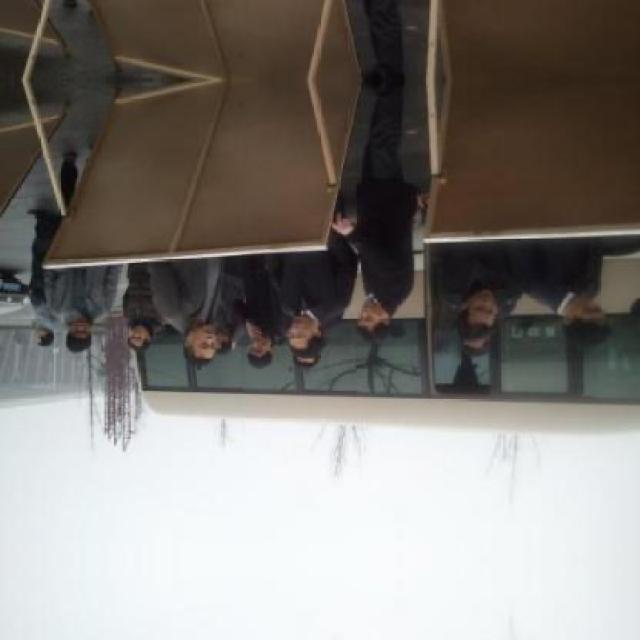sin casco: (546, 285, 608, 355), (279, 298, 337, 363), (452, 281, 501, 345), (164, 329, 224, 370), (361, 294, 394, 340)
